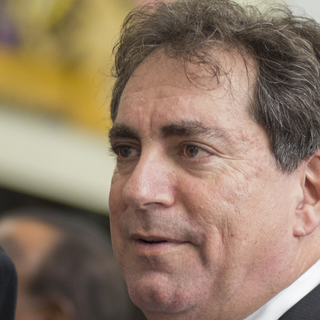eye: (169, 139, 225, 167), (108, 141, 144, 167)
